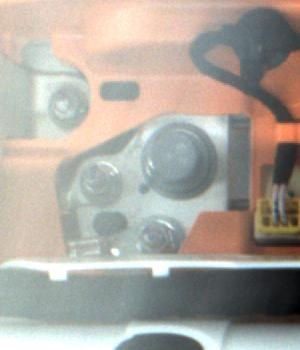nut_b: (135, 116, 226, 197)
